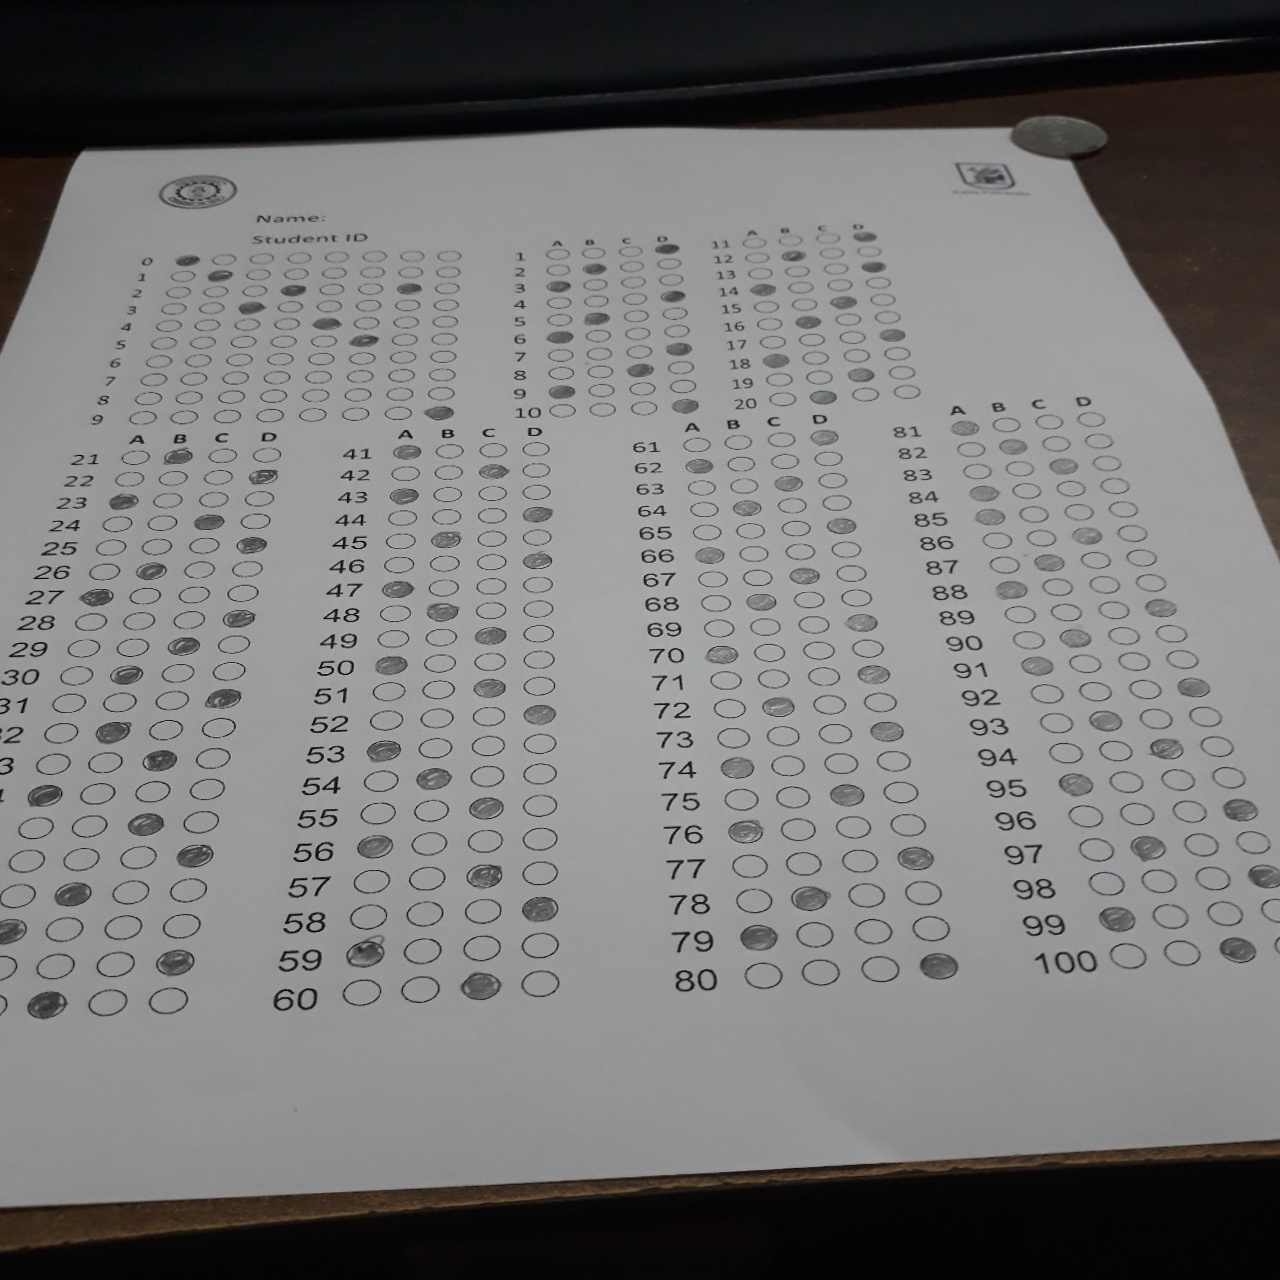not-c: (143, 985, 189, 1014), (86, 988, 131, 1016), (404, 897, 447, 927), (401, 935, 445, 964), (462, 897, 504, 926), (401, 975, 443, 1005), (459, 933, 503, 961), (517, 969, 560, 998), (520, 930, 561, 959), (341, 978, 383, 1005), (744, 961, 787, 988), (34, 952, 77, 978), (96, 952, 139, 978), (801, 958, 842, 985), (859, 955, 900, 982), (100, 914, 144, 939), (183, 808, 225, 833), (43, 915, 86, 941), (794, 921, 836, 947), (1109, 941, 1149, 968), (164, 877, 207, 901), (908, 915, 952, 940), (347, 903, 388, 928), (70, 813, 113, 838), (114, 844, 156, 869), (8, 849, 50, 873), (1078, 836, 1118, 862), (407, 865, 448, 890), (159, 913, 202, 937), (853, 919, 896, 942), (1117, 802, 1157, 826), (1234, 829, 1274, 853), (1088, 870, 1128, 894), (1151, 903, 1191, 927), (1203, 900, 1242, 925), (1160, 940, 1200, 965), (113, 879, 154, 903), (467, 828, 508, 851), (350, 867, 392, 891), (730, 853, 769, 878), (903, 879, 941, 904), (192, 747, 234, 769), (59, 847, 101, 870), (1170, 797, 1210, 821), (1183, 832, 1223, 856), (1192, 866, 1232, 890), (1141, 869, 1180, 892), (358, 799, 397, 823), (847, 881, 885, 906), (468, 763, 506, 787), (519, 760, 558, 783), (409, 832, 448, 856), (778, 817, 817, 840), (888, 813, 927, 837), (734, 888, 772, 912), (184, 778, 226, 799), (75, 782, 117, 803), (413, 798, 452, 821), (520, 826, 560, 849), (835, 815, 872, 838), (519, 794, 558, 816), (721, 787, 760, 809), (132, 779, 172, 801), (18, 817, 57, 838), (1160, 768, 1198, 790), (1107, 770, 1144, 792), (775, 784, 812, 806), (842, 849, 879, 871), (363, 768, 399, 791), (753, 667, 794, 687), (520, 862, 559, 883), (785, 852, 822, 874), (803, 666, 843, 686), (1198, 735, 1235, 756), (56, 663, 94, 685), (41, 722, 79, 743), (706, 669, 743, 690), (713, 728, 750, 749), (822, 751, 859, 772), (873, 750, 911, 771), (881, 779, 919, 801), (1068, 805, 1107, 825), (101, 693, 139, 713), (367, 710, 406, 730), (468, 706, 506, 726), (810, 694, 849, 714), (816, 723, 855, 743), (768, 755, 806, 775), (1211, 765, 1247, 787), (154, 689, 190, 710), (416, 707, 452, 728), (860, 692, 897, 713), (1116, 651, 1153, 670), (1185, 706, 1223, 726), (161, 662, 198, 682), (764, 724, 802, 744), (518, 676, 557, 695), (1068, 652, 1104, 672), (1077, 680, 1114, 700), (1039, 712, 1075, 731), (211, 661, 247, 681), (199, 719, 236, 738), (147, 719, 183, 738), (87, 753, 123, 772), (519, 622, 556, 642), (520, 733, 557, 753), (832, 563, 869, 583), (712, 697, 748, 717), (1047, 742, 1084, 761), (1096, 741, 1133, 760), (421, 652, 458, 670), (418, 679, 456, 697), (372, 681, 409, 700), (1141, 708, 1176, 728), (172, 610, 207, 629), (116, 636, 151, 656), (50, 692, 86, 712), (36, 753, 72, 772), (425, 577, 461, 597), (375, 628, 410, 648), (470, 735, 505, 755), (418, 736, 454, 756), (1028, 683, 1064, 702), (1124, 679, 1160, 697), (224, 583, 260, 601), (374, 602, 410, 621), (747, 617, 783, 635), (699, 619, 737, 636), (1085, 574, 1121, 593), (183, 559, 218, 578), (74, 612, 109, 631), (472, 652, 508, 670), (519, 651, 554, 669), (737, 543, 772, 561), (788, 590, 825, 607), (1042, 576, 1075, 595), (1012, 629, 1044, 649), (422, 627, 458, 645), (779, 542, 816, 559), (699, 593, 735, 611), (796, 615, 832, 633), (801, 640, 837, 658), (847, 639, 884, 656), (1107, 625, 1141, 644), (1155, 622, 1189, 641), (474, 601, 508, 620), (229, 559, 264, 577), (128, 586, 163, 604), (122, 612, 157, 629), (217, 635, 252, 653), (520, 600, 556, 618), (839, 588, 874, 606), (988, 554, 1021, 573), (1078, 550, 1111, 568), (1003, 604, 1036, 622), (1165, 649, 1198, 668), (87, 563, 121, 580), (64, 639, 98, 656), (828, 540, 864, 557), (694, 568, 730, 585), (740, 568, 776, 585), (751, 644, 788, 660), (1135, 572, 1167, 590), (1097, 600, 1130, 618), (1051, 602, 1084, 620), (175, 586, 210, 602), (475, 527, 508, 545), (1117, 522, 1148, 540), (188, 535, 219, 552), (433, 442, 464, 459), (519, 462, 551, 479), (384, 508, 416, 525), (433, 508, 464, 525), (520, 527, 552, 545), (475, 576, 506, 593), (390, 464, 423, 481), (520, 482, 553, 498), (520, 576, 553, 592), (813, 450, 846, 467), (726, 456, 758, 472), (685, 477, 717, 493), (727, 477, 760, 493), (819, 493, 852, 510), (690, 523, 723, 539), (735, 520, 768, 537), (990, 414, 1021, 431), (955, 440, 986, 457), (1005, 459, 1035, 477), (961, 461, 992, 478), (1009, 481, 1040, 498), (1019, 505, 1049, 523), (1027, 527, 1057, 545), (245, 489, 275, 506), (1092, 452, 1121, 471), (1075, 410, 1107, 427), (1033, 411, 1064, 428), (1054, 481, 1085, 497), (1259, 898, 1280, 922), (141, 537, 172, 553), (434, 464, 465, 481), (476, 484, 508, 501), (384, 532, 416, 549), (429, 554, 461, 571), (722, 433, 754, 449), (776, 497, 808, 513), (1041, 433, 1070, 450), (1064, 502, 1094, 519), (982, 530, 1012, 547), (1099, 477, 1130, 493), (1125, 549, 1156, 565), (271, 314, 301, 331), (147, 515, 179, 530), (477, 440, 508, 456), (382, 554, 413, 571), (475, 554, 508, 570), (681, 436, 712, 452), (765, 431, 798, 447), (768, 452, 801, 468), (687, 501, 720, 516), (781, 519, 813, 535), (114, 470, 145, 485), (96, 538, 128, 553), (519, 440, 551, 455), (431, 485, 463, 501), (476, 506, 508, 522), (817, 471, 849, 486), (1084, 431, 1114, 448), (1108, 499, 1137, 516), (805, 368, 835, 384), (263, 368, 292, 384), (151, 491, 181, 508), (199, 490, 229, 506), (297, 406, 327, 421), (350, 315, 381, 331), (127, 409, 157, 424), (217, 389, 247, 404), (209, 445, 239, 461), (203, 469, 233, 484), (156, 469, 186, 484), (101, 516, 131, 531), (256, 406, 284, 422), (343, 384, 372, 401), (302, 368, 331, 384), (881, 346, 911, 361), (306, 349, 335, 365), (266, 350, 295, 366), (168, 409, 197, 424), (173, 389, 203, 404), (178, 370, 207, 386), (121, 448, 150, 463), (251, 445, 280, 461), (851, 387, 878, 403), (758, 334, 787, 349), (887, 365, 915, 380), (302, 387, 331, 402), (258, 388, 286, 403), (346, 368, 374, 383), (349, 350, 377, 366), (311, 333, 339, 348), (268, 333, 297, 348), (241, 513, 272, 527), (316, 282, 346, 297), (144, 354, 173, 368), (212, 409, 241, 423), (768, 390, 795, 406), (588, 401, 615, 416), (777, 232, 805, 246), (874, 309, 903, 324), (765, 372, 794, 386), (360, 248, 388, 263), (322, 250, 350, 264), (286, 250, 314, 264), (196, 300, 224, 314), (161, 300, 189, 314), (233, 316, 261, 331), (222, 370, 250, 384), (132, 392, 161, 406), (802, 349, 829, 363), (843, 348, 870, 362), (625, 343, 652, 358), (668, 377, 695, 392), (629, 400, 656, 414), (549, 403, 576, 417), (433, 297, 459, 311), (430, 331, 457, 345), (428, 367, 455, 381), (427, 386, 454, 400), (397, 264, 424, 278), (390, 350, 417, 365), (386, 387, 413, 401), (241, 282, 268, 297), (315, 298, 345, 311), (275, 299, 305, 312), (282, 266, 312, 279), (168, 268, 197, 281), (813, 231, 842, 244), (756, 316, 784, 329), (839, 331, 867, 343), (893, 384, 919, 399), (393, 314, 418, 328), (387, 368, 415, 381), (354, 298, 382, 311), (356, 280, 384, 293), (321, 265, 349, 278), (210, 253, 238, 266), (244, 268, 272, 281), (200, 284, 229, 297), (165, 285, 193, 298), (193, 318, 222, 331), (155, 319, 183, 332), (225, 354, 253, 367), (188, 335, 216, 348), (149, 336, 177, 349), (185, 353, 213, 366), (139, 372, 168, 384), (583, 277, 610, 290), (663, 324, 690, 336), (627, 381, 654, 394), (431, 314, 458, 327), (430, 349, 457, 362), (397, 248, 424, 261), (394, 298, 421, 311), (392, 333, 418, 346), (384, 406, 411, 418), (341, 406, 368, 418), (358, 265, 384, 278), (248, 251, 275, 264), (229, 335, 256, 348), (435, 264, 459, 278), (744, 251, 770, 264), (828, 277, 853, 290), (865, 275, 891, 288), (790, 297, 816, 309), (655, 256, 681, 268), (545, 263, 571, 275), (620, 275, 646, 288), (586, 346, 612, 359), (586, 365, 612, 377), (437, 248, 463, 261), (435, 282, 461, 295), (797, 333, 825, 345), (622, 326, 651, 338), (817, 246, 844, 258), (745, 267, 772, 279), (787, 281, 813, 293), (869, 293, 896, 305), (753, 301, 779, 313), (835, 313, 862, 325), (619, 244, 646, 256), (658, 273, 685, 285), (583, 295, 610, 307), (545, 297, 572, 308), (546, 313, 573, 325), (622, 309, 649, 321), (662, 307, 689, 319), (585, 328, 612, 340), (546, 350, 573, 362), (547, 366, 574, 377), (742, 237, 768, 248), (822, 261, 847, 273), (785, 265, 811, 277), (580, 245, 606, 257), (546, 247, 572, 259), (619, 260, 645, 272), (622, 293, 648, 305), (668, 361, 694, 373), (588, 384, 614, 396), (855, 246, 881, 257), (1273, 933, 1280, 958)
taken-c: (918, 951, 964, 979), (342, 940, 389, 967), (517, 894, 564, 920), (737, 924, 782, 951), (459, 972, 505, 998), (785, 884, 829, 911), (1217, 935, 1258, 964), (137, 747, 179, 772), (125, 811, 165, 838), (156, 949, 196, 976), (55, 881, 94, 908), (27, 990, 66, 1017), (175, 843, 215, 869), (1129, 835, 1167, 860), (1097, 906, 1136, 931), (1055, 772, 1092, 797), (1220, 796, 1258, 821), (467, 797, 508, 819), (350, 835, 392, 857), (463, 865, 504, 887), (825, 784, 866, 805), (26, 784, 64, 806), (726, 821, 765, 842), (893, 847, 933, 869), (414, 768, 451, 790), (91, 721, 129, 743), (1088, 708, 1123, 731), (203, 687, 241, 708), (519, 703, 556, 726), (424, 601, 462, 622), (470, 624, 508, 645), (1247, 865, 1280, 888), (855, 663, 891, 685), (761, 696, 797, 717), (720, 756, 756, 777), (372, 654, 408, 675), (109, 663, 145, 685), (1148, 737, 1182, 760), (469, 678, 506, 697), (222, 607, 259, 627), (166, 636, 204, 656), (363, 738, 399, 760), (76, 586, 113, 606), (869, 722, 903, 743), (1175, 678, 1210, 697), (477, 459, 510, 481), (994, 579, 1028, 599), (844, 612, 878, 632), (428, 529, 461, 549), (380, 578, 413, 598), (1058, 626, 1092, 645), (1144, 599, 1178, 618), (1020, 658, 1054, 676), (704, 644, 738, 662), (387, 486, 420, 505), (520, 550, 553, 568), (760, 350, 791, 369), (965, 483, 998, 501), (973, 509, 1006, 526), (392, 442, 424, 459), (522, 504, 554, 522), (162, 448, 195, 465), (1046, 458, 1080, 475), (692, 546, 726, 563), (234, 537, 268, 553), (745, 281, 779, 298), (809, 428, 840, 445), (682, 456, 714, 474), (771, 474, 803, 491), (135, 563, 166, 580), (170, 251, 202, 268), (237, 298, 268, 315), (280, 279, 312, 297), (309, 313, 341, 331), (347, 332, 379, 349), (542, 278, 573, 295), (663, 340, 695, 358), (828, 292, 859, 309), (843, 365, 874, 382), (998, 437, 1030, 454), (1033, 553, 1065, 570), (823, 518, 856, 535), (107, 492, 139, 509), (658, 288, 690, 305), (651, 240, 683, 257), (846, 227, 879, 244), (873, 325, 904, 342), (949, 418, 981, 435), (1073, 527, 1104, 544), (730, 501, 762, 517), (247, 468, 279, 484), (193, 512, 225, 529), (422, 404, 454, 421), (545, 329, 577, 346), (580, 309, 612, 326), (670, 399, 702, 415), (790, 313, 822, 329), (778, 246, 810, 263), (858, 260, 890, 277), (788, 567, 821, 583), (743, 593, 774, 610), (544, 384, 577, 400), (577, 260, 610, 275), (624, 362, 656, 377), (808, 390, 840, 406), (204, 268, 236, 284), (390, 281, 422, 297)
